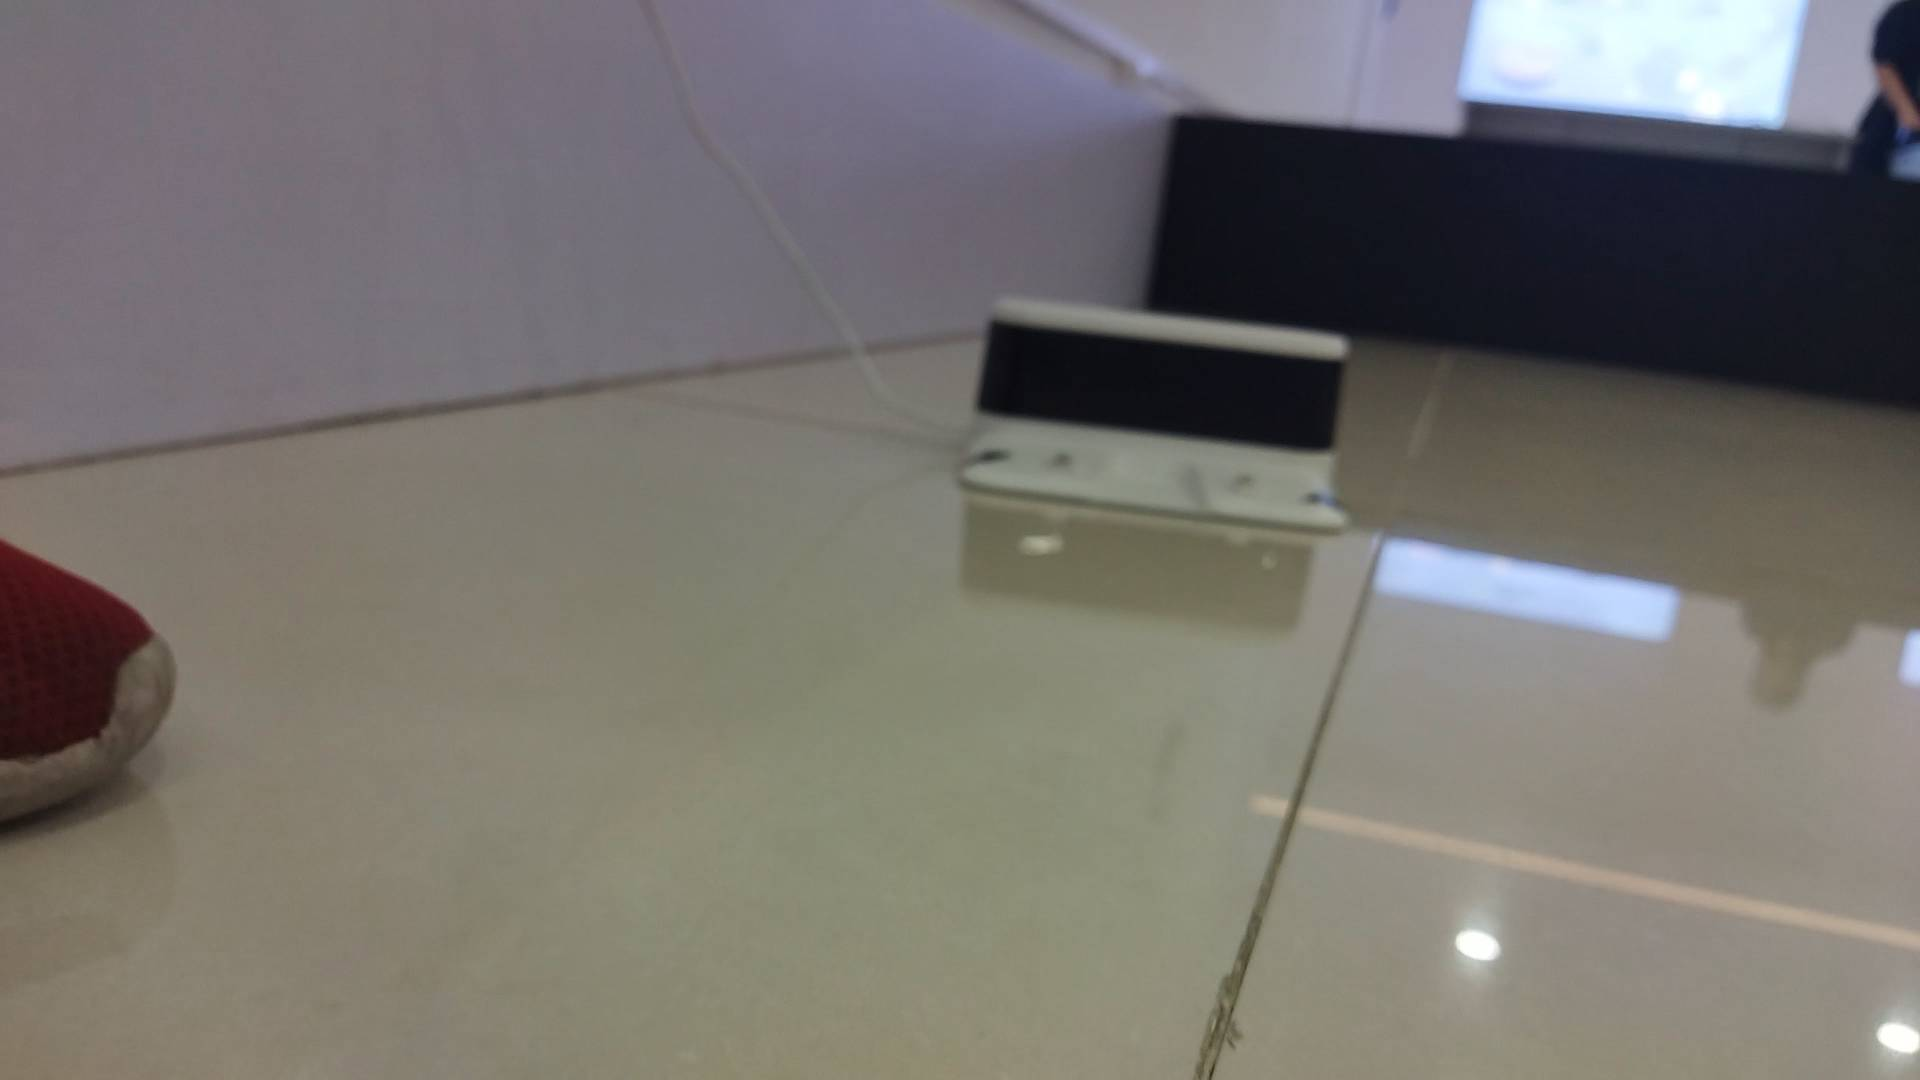recharge seat: (957, 297, 1356, 534)
